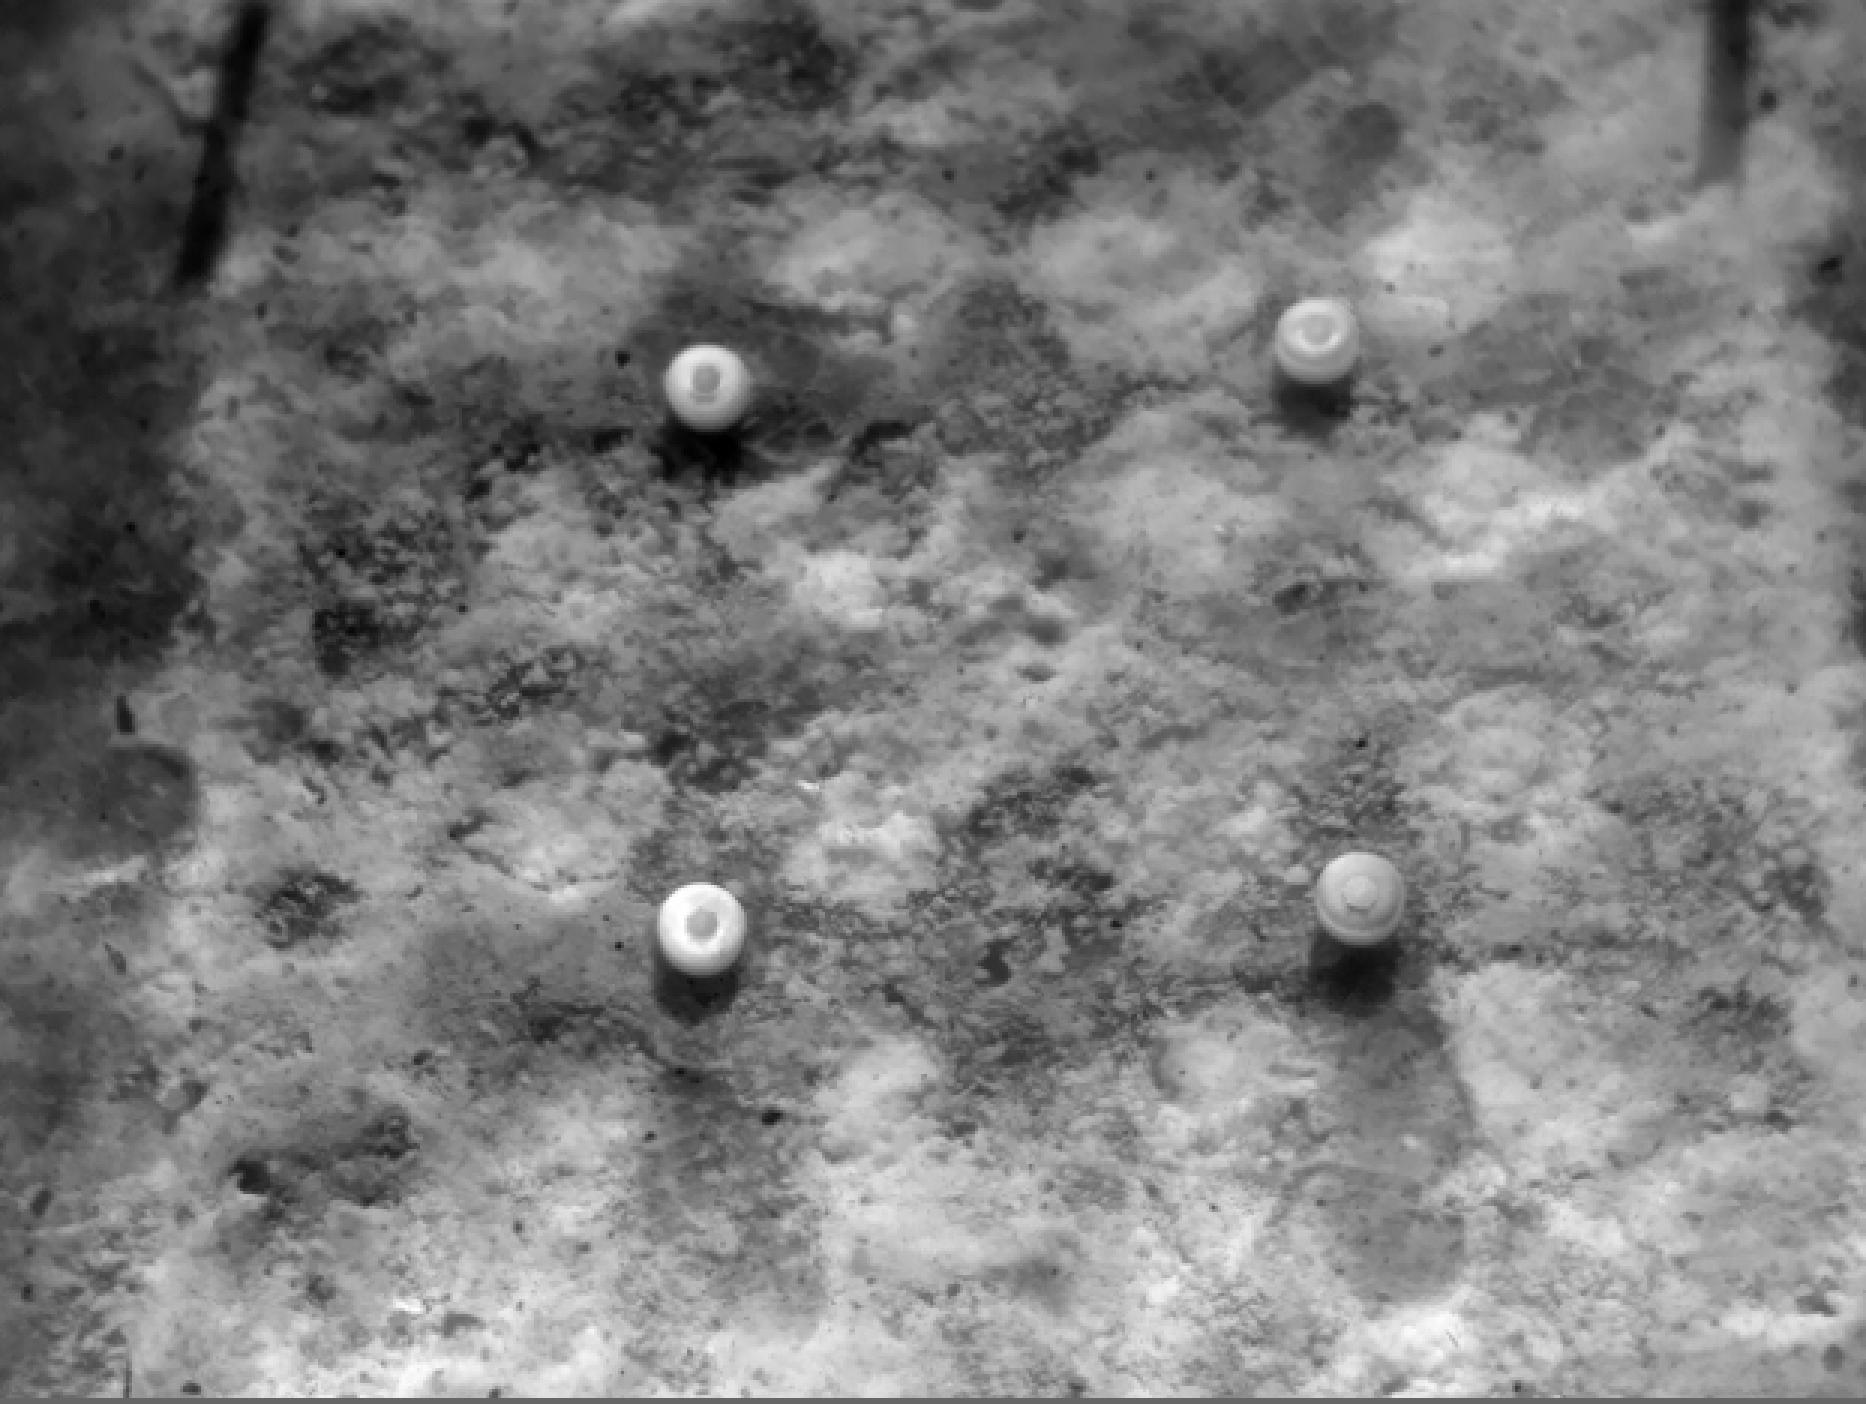mines-gjV8: (1317, 842, 1413, 948), (662, 875, 757, 978), (1274, 292, 1363, 380), (676, 342, 743, 423)
